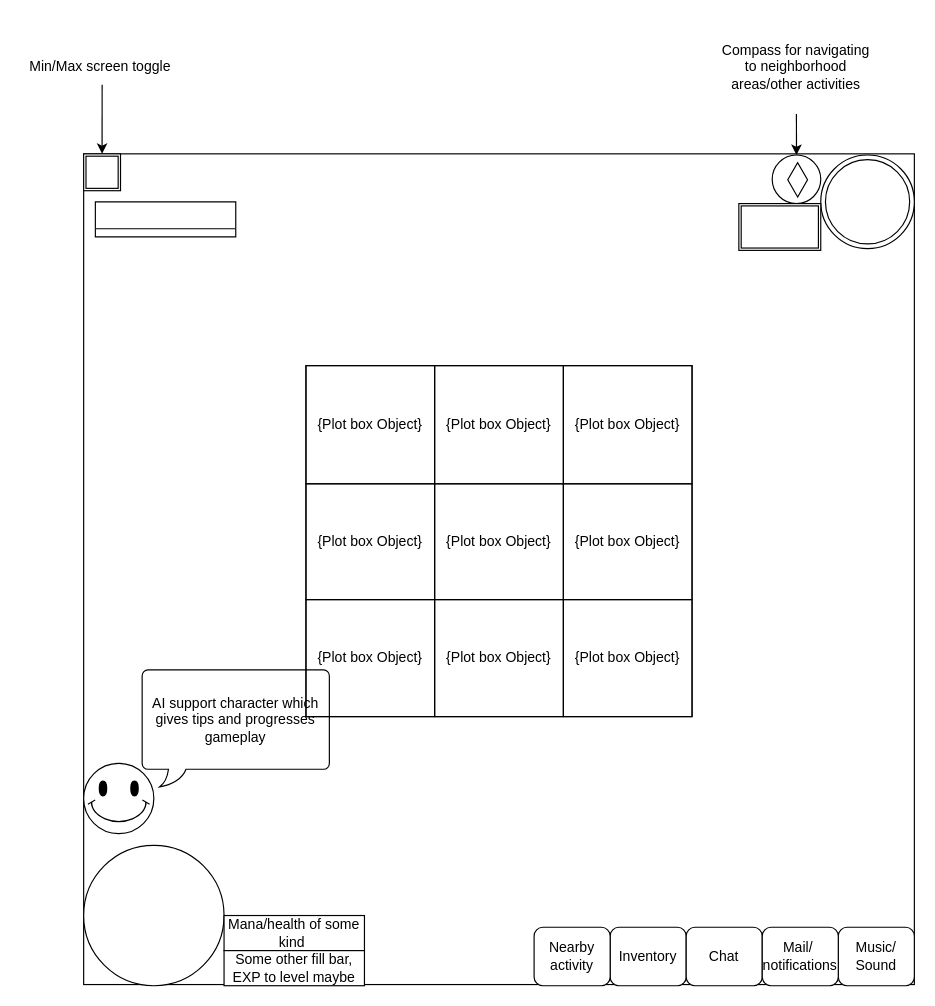
This 935x1006 diagram has some shape labels left out. Each missing label, with the centre of its shape:
Activities: (779,226)
Avatar: (153,915)
Progress Bars: (165,219)
Sun/Moon/ time of day: (867,201)
